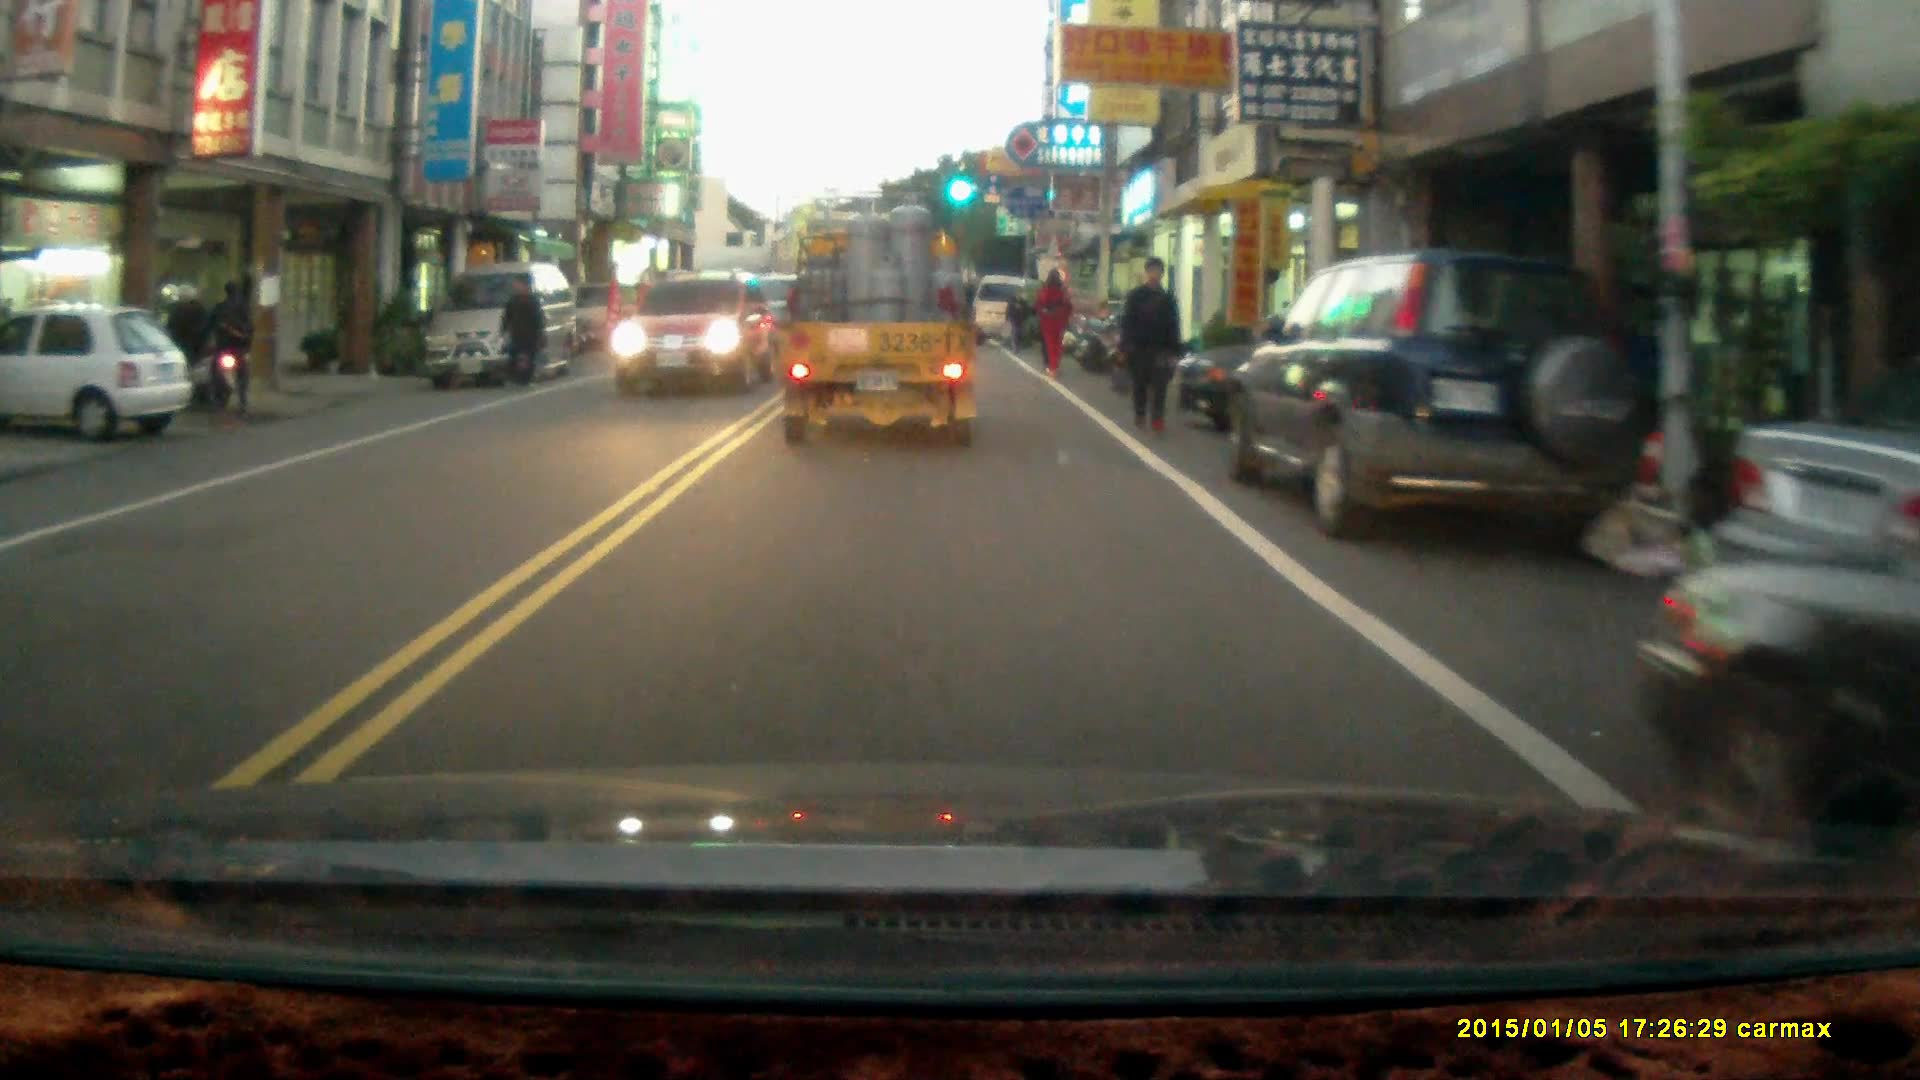pedestrian: (1116, 251, 1185, 436), (207, 273, 254, 409), (496, 271, 544, 394), (1033, 262, 1070, 375), (1002, 283, 1032, 354)
rider: (148, 278, 235, 412)
vehicle: (1228, 245, 1651, 545), (1638, 526, 1920, 867), (773, 190, 981, 454), (1, 305, 201, 449), (422, 261, 585, 385), (612, 273, 766, 393)
